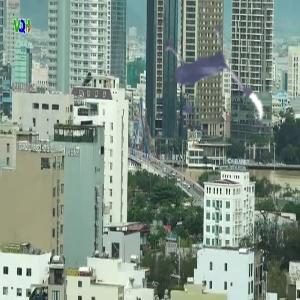drone: (130, 11, 276, 157)
